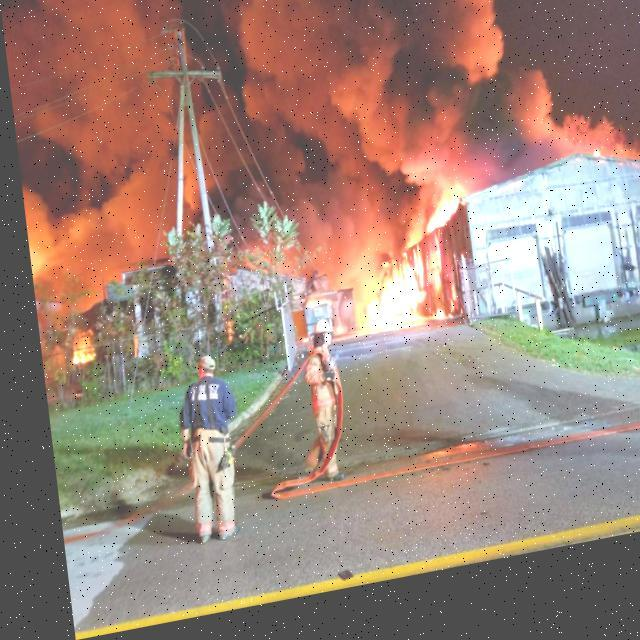Fire: (334, 236, 424, 356), (402, 204, 464, 256)
